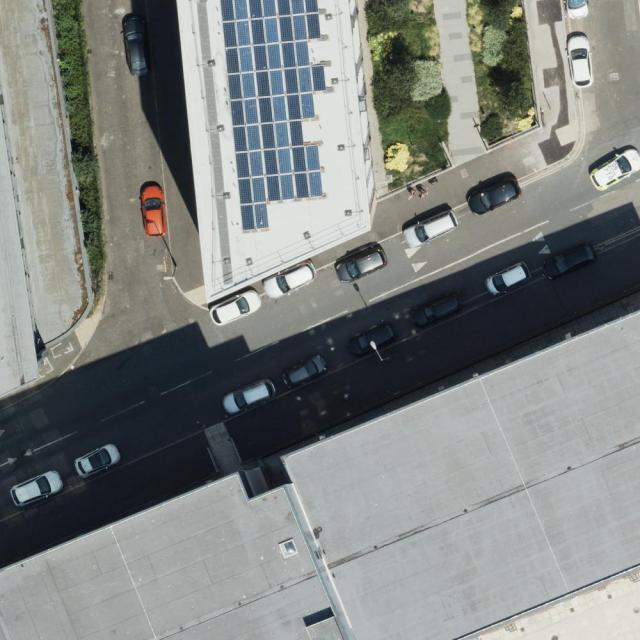roof: (0, 308, 640, 640), (175, 0, 373, 305)
skylight: (278, 536, 300, 561)
solar: (217, 1, 327, 234)
